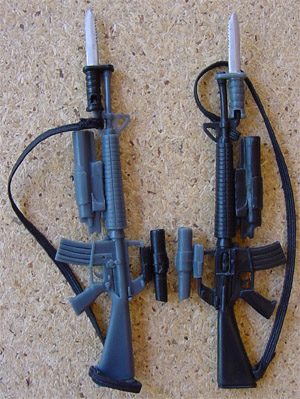rifle: (189, 12, 272, 388), (65, 9, 141, 382)
